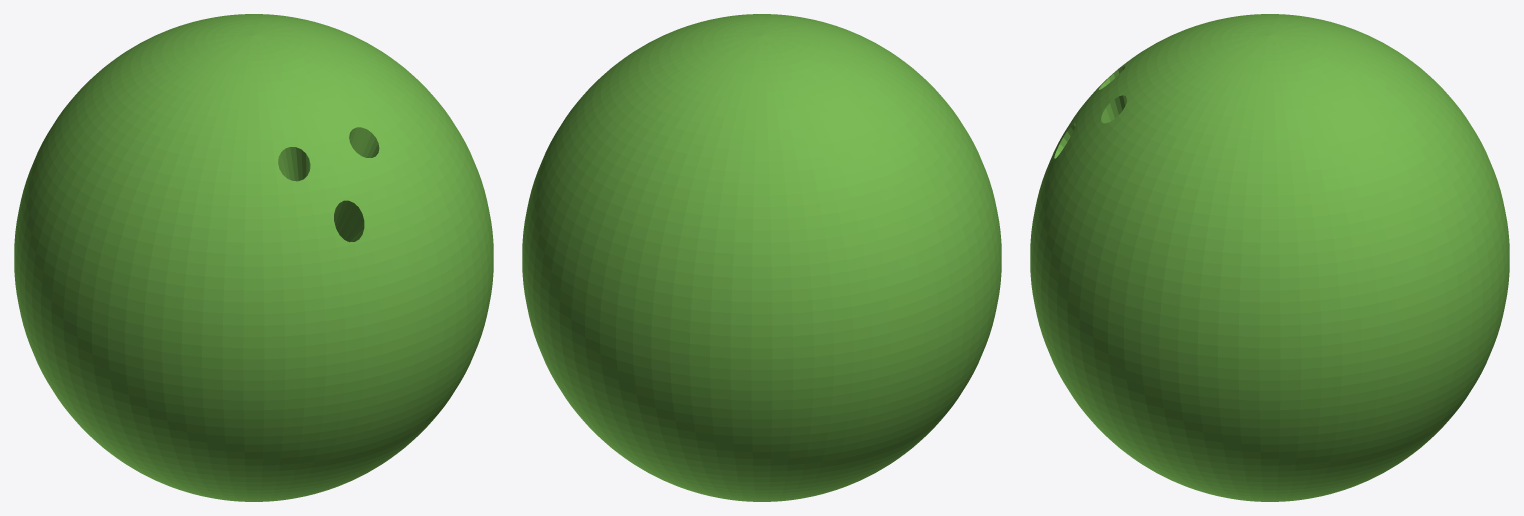
Rendered from BowlingBall.fbx.
3 renders of one model, left to right at view 1: azimuth 30°, elevation 25°; view 2: azimuth 150°, elevation 25°; view 3: azimuth 270°, elevation 25°, orthographic.
Visible parts, largest first — view 1: Sphere; view 2: Sphere; view 3: Sphere.
Boxes of the visible parts, left/top/right/bottom form: Sphere: left=14, top=14, right=493, bottom=501; Sphere: left=522, top=14, right=1001, bottom=501; Sphere: left=1030, top=14, right=1509, bottom=501.
Bounding box in the file's own units: 195 × 199 × 195.
